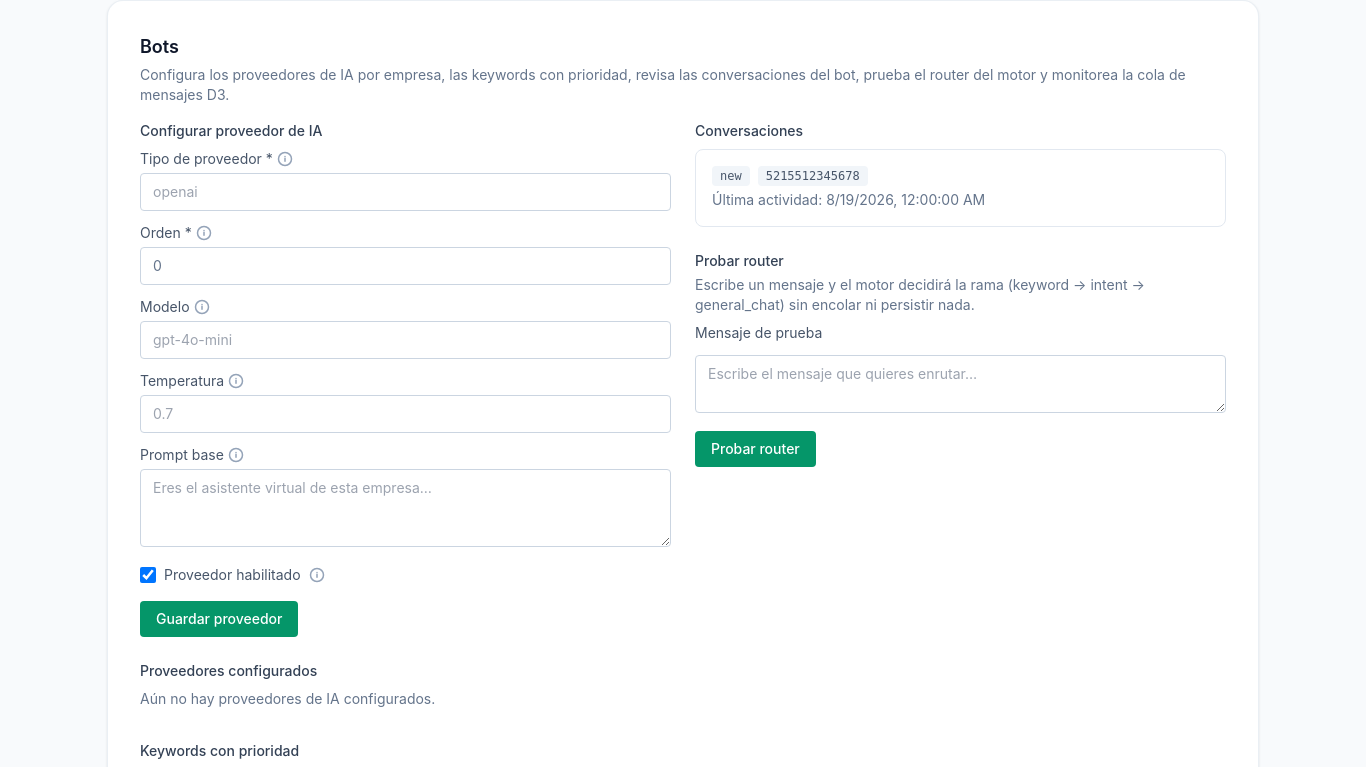
it: BotsSection › valida que el mensaje de prueba no pueda estar vacío
Click the button "new 5215512345678 Última actividad: 8/19/2026, 12:00:00 AM" at (960,188), box [712,166,1209,210]
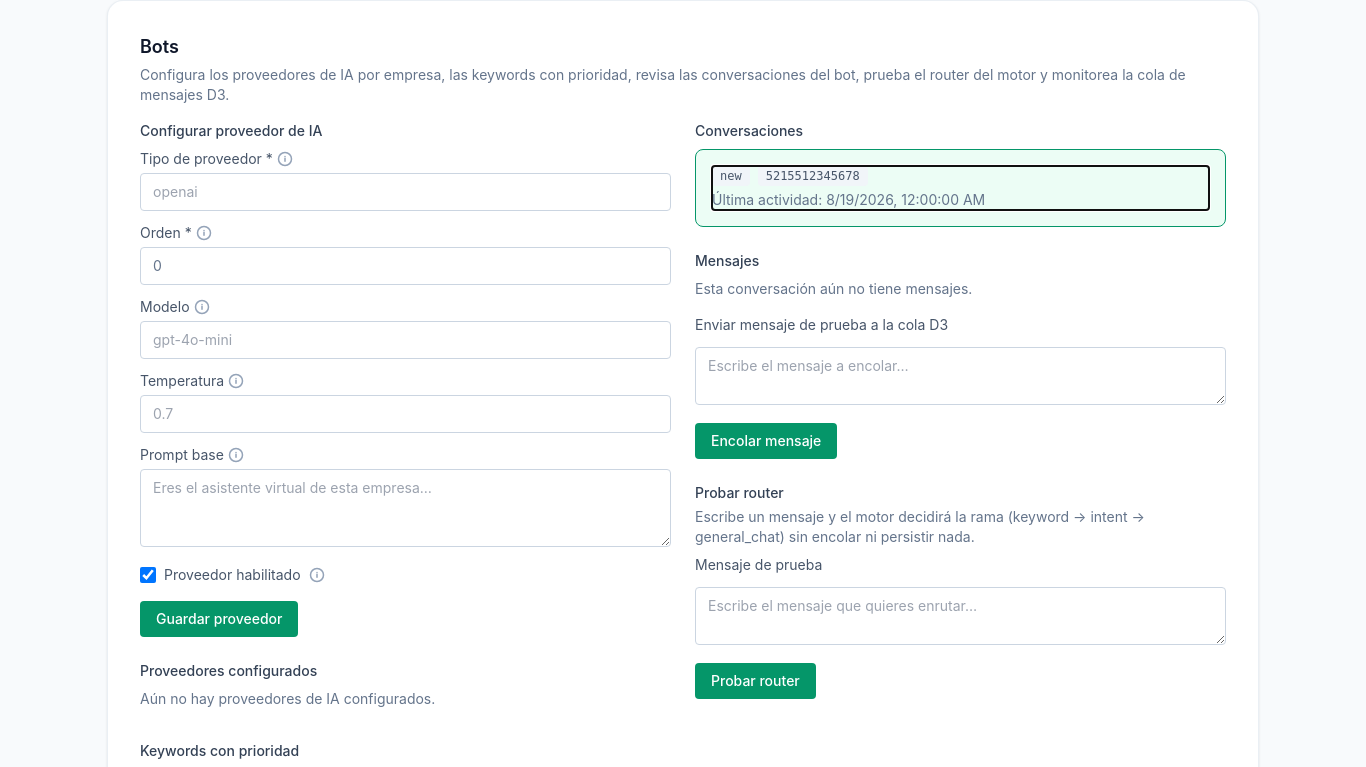
Check: the form "Enviar mensaje de prueba" is shown, box [695,315,1226,459]
Click the button "Encolar mensaje" at (766,441), box [695,423,837,459]
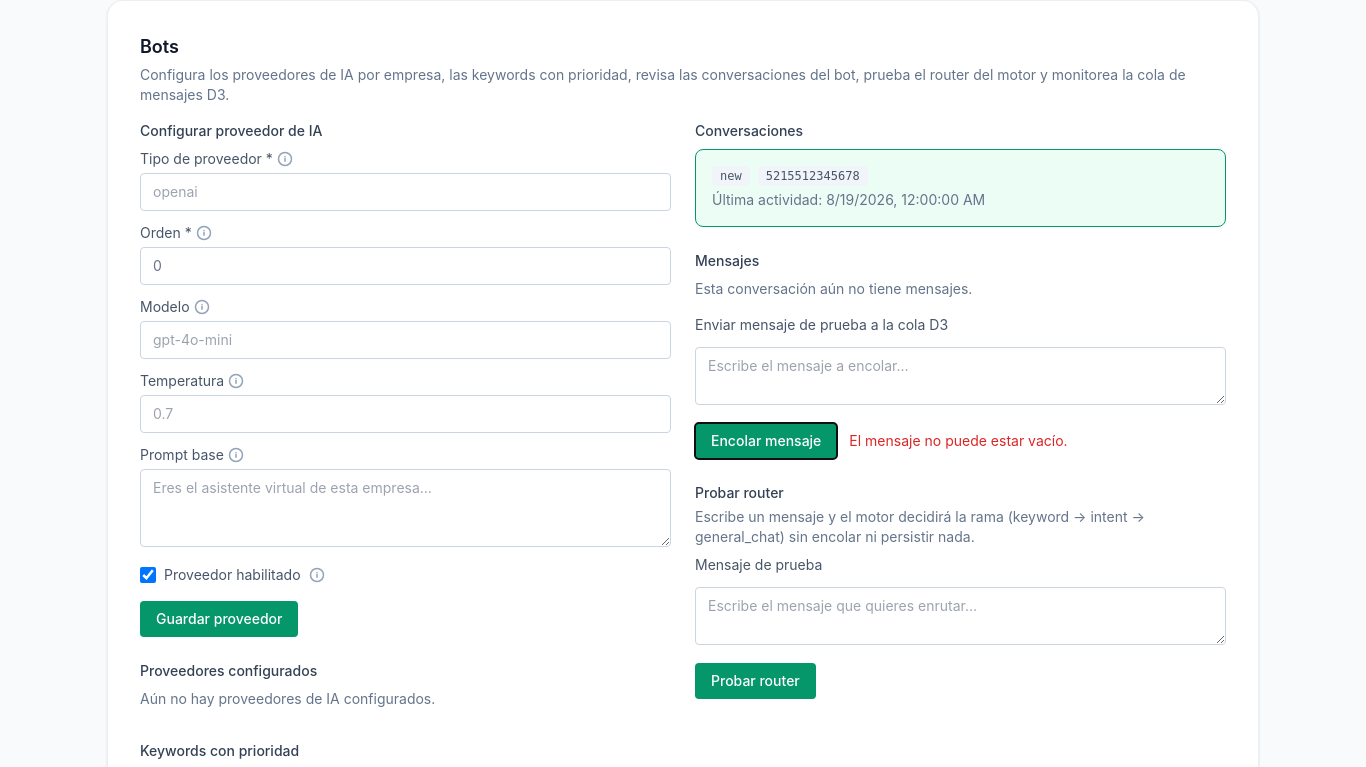
Check: the text "El mensaje no puede estar vacío." is shown, box [849,432,1068,449]
